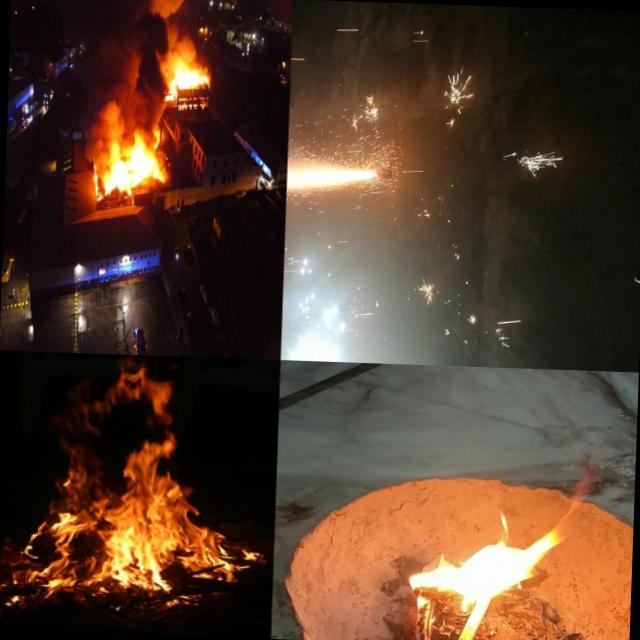fire: (8, 365, 258, 612), (394, 465, 578, 640), (98, 146, 168, 196), (164, 60, 211, 114)
smoke: (80, 72, 164, 148), (24, 0, 104, 74), (165, 0, 199, 60)
